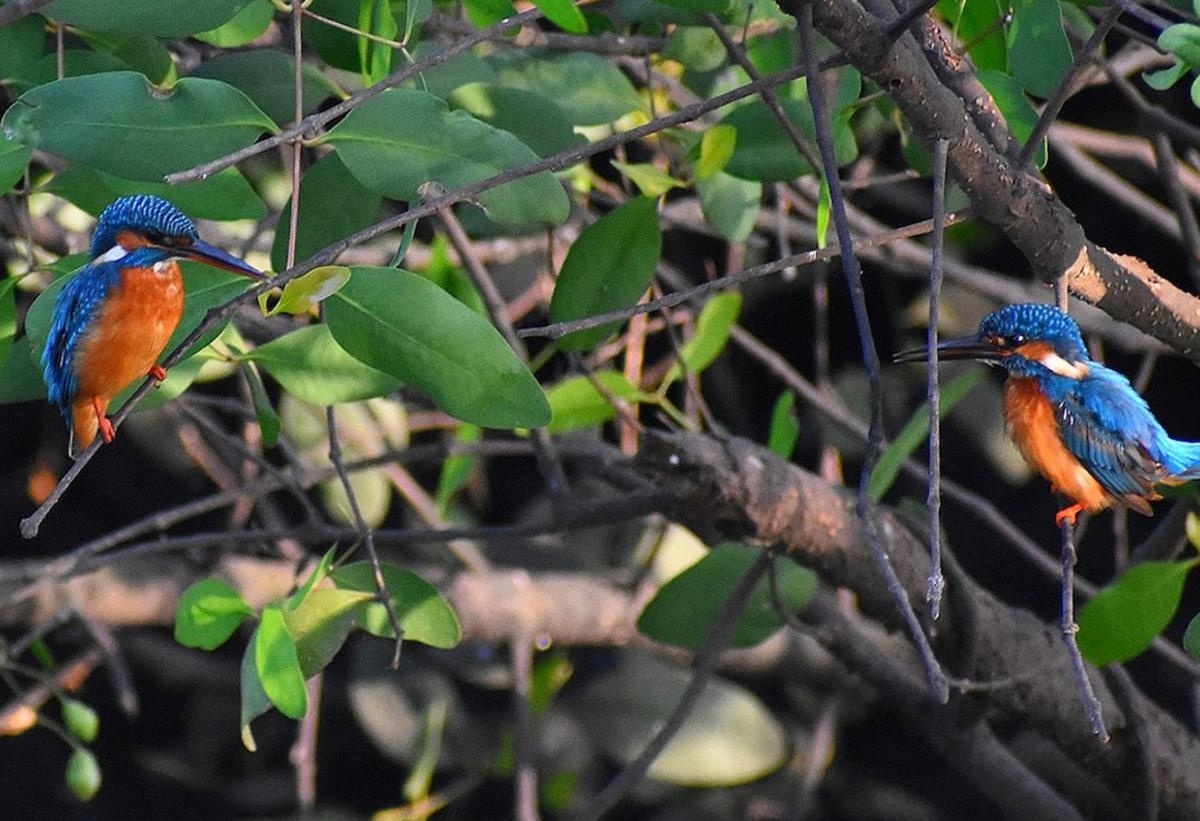kingfisher: (897, 293, 1200, 540), (32, 194, 274, 473)
